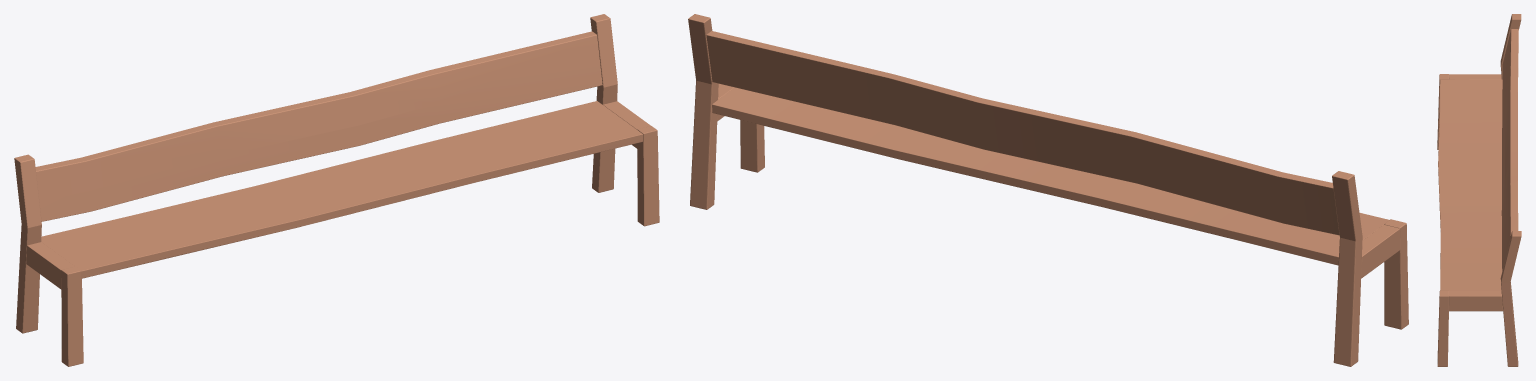
The model's file is chair_long.fbx.
The picture shows the model from 3 angles, left to right: view 1: azimuth 30°, elevation 25°; view 2: azimuth 150°, elevation 25°; view 3: azimuth 270°, elevation 25°; orthographic projection. The views are drawn at different scales.
Visible parts, largest first — view 1: Box025; view 2: Box025; view 3: Box025.
Boxes of the visible parts, left/top/right/bottom form: Box025: left=14, top=14, right=659, bottom=366; Box025: left=688, top=14, right=1408, bottom=366; Box025: left=1437, top=14, right=1521, bottom=366.
Size of the model in its own units: 435 by 119 by 69.49.
